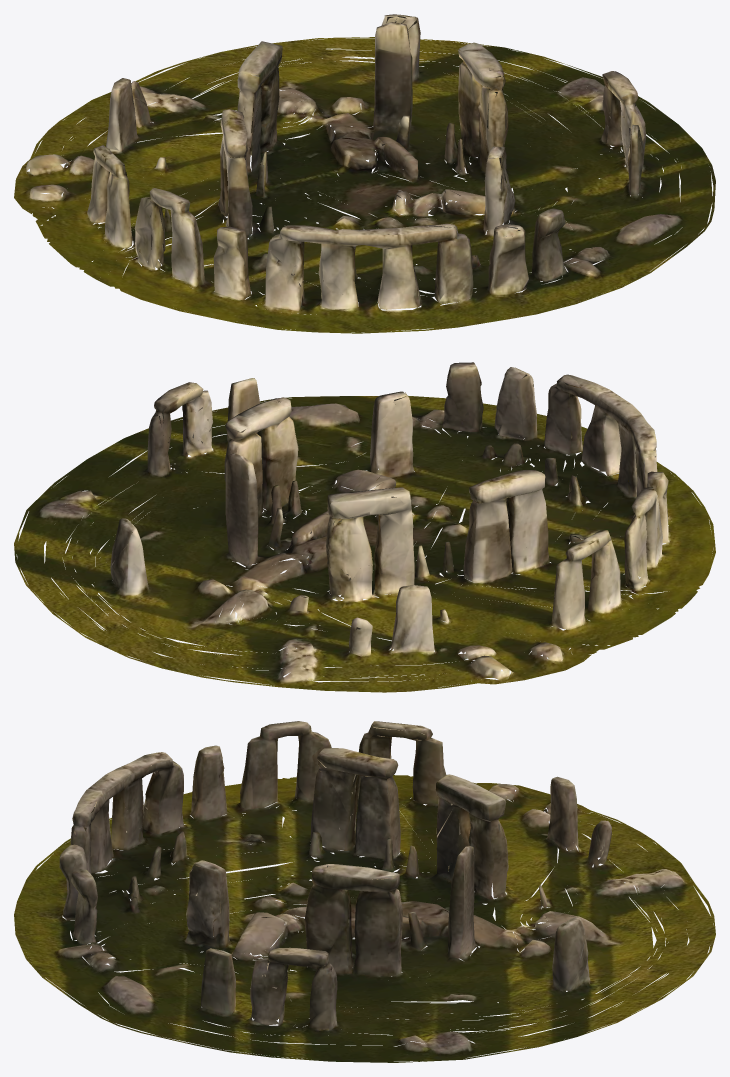
The model's file is thumb.glb.
The picture shows the model from 3 angles, top to bottom: view 1: azimuth 30°, elevation 25°; view 2: azimuth 150°, elevation 25°; view 3: azimuth 270°, elevation 25°; orthographic projection.
Visible parts, largest first — view 1: Stonehenge; view 2: Stonehenge; view 3: Stonehenge.
Boxes of the visible parts, <box> form: Stonehenge: <box>14,14,715,333</box>; Stonehenge: <box>14,362,715,692</box>; Stonehenge: <box>14,721,715,1062</box>.
Size of the model in its own units: 32.95 by 5.84 by 33.56.
Materials: 1 (1 with a texture image).
